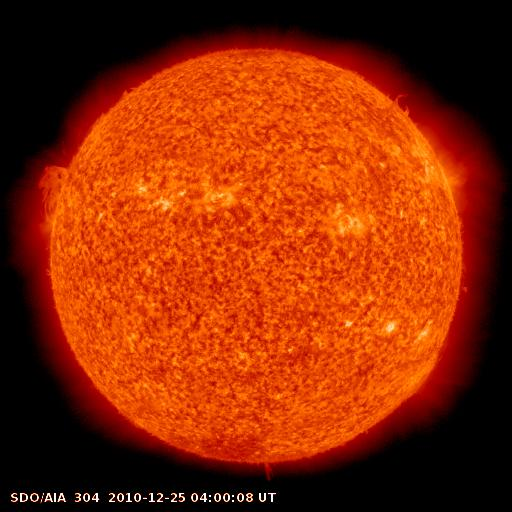prominence: (26, 158, 80, 239), (389, 83, 428, 129), (249, 452, 290, 490)
